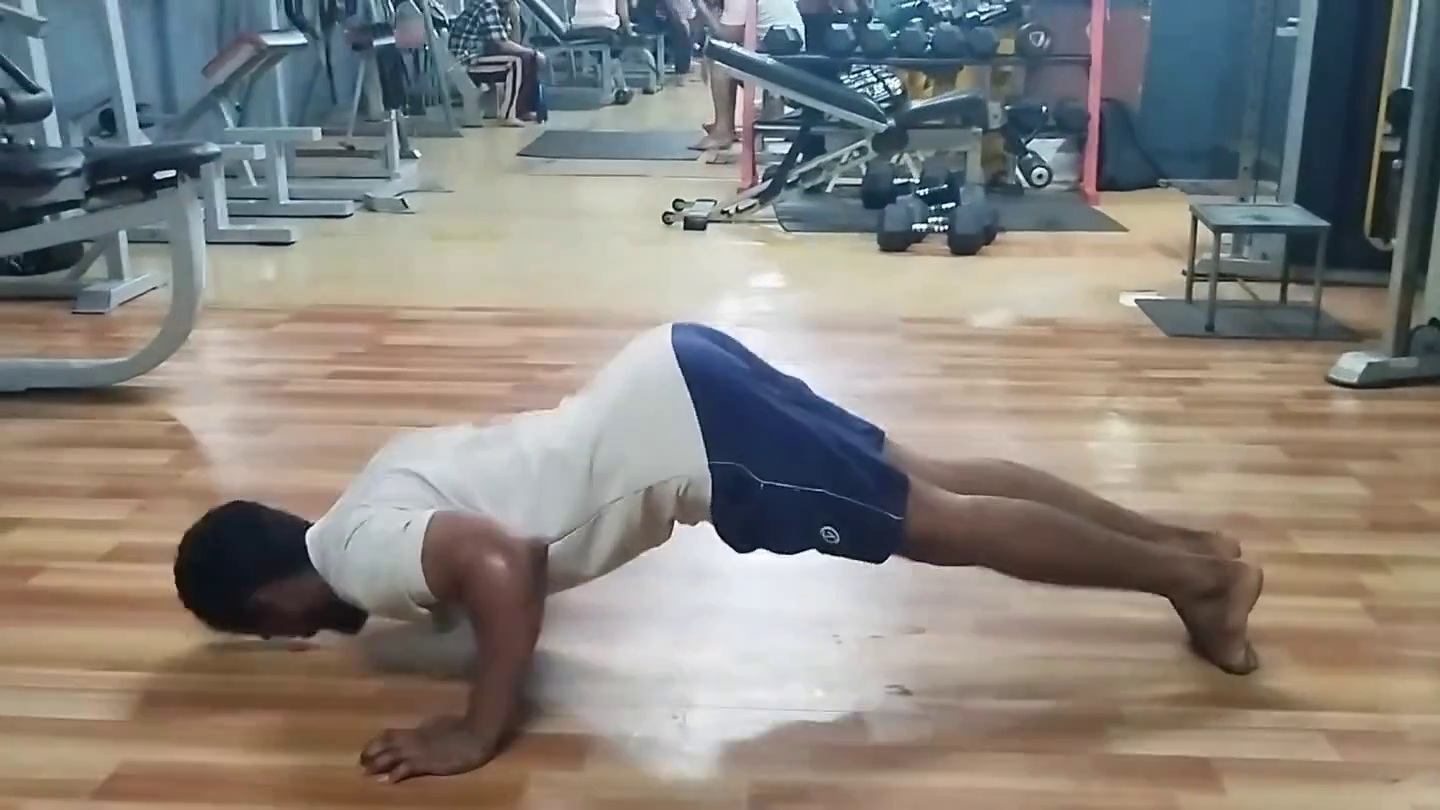push_up_incorrect: (157, 316, 1331, 810)
